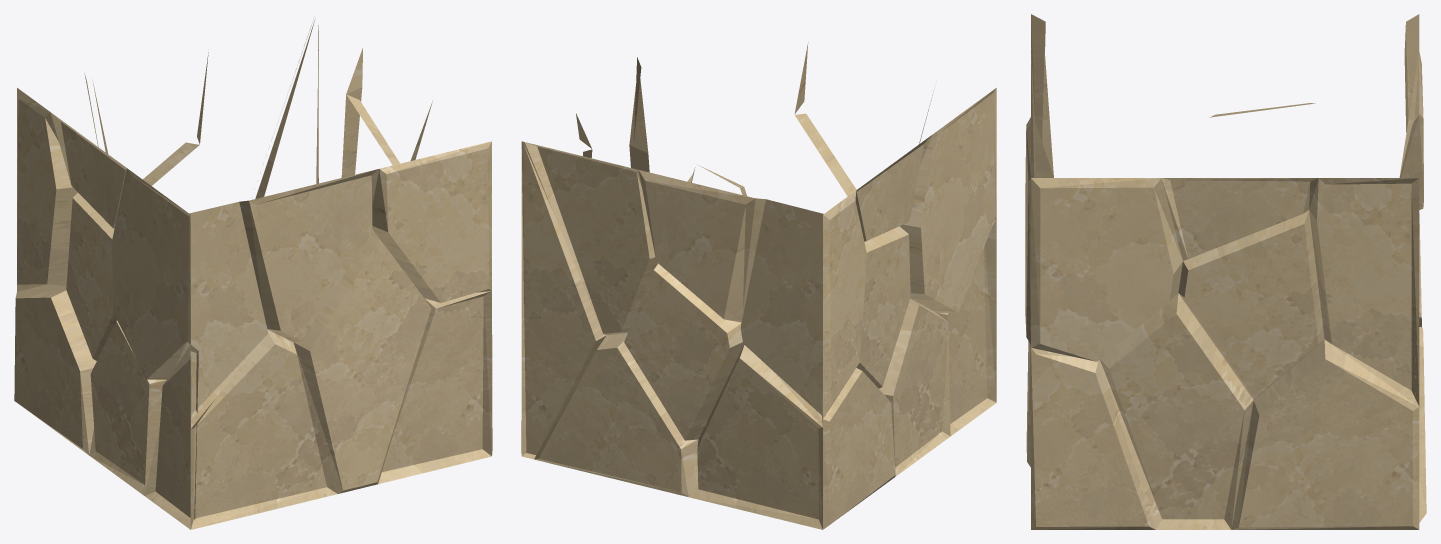
File: ground_rock_04.gltf
The picture shows the model from 3 angles, left to right: view 1: azimuth 30°, elevation 25°; view 2: azimuth 150°, elevation 25°; view 3: azimuth 270°, elevation 25°; orthographic projection. The views are drawn at different scales.
Visible parts, largest first — view 1: ground_rock_04; view 2: ground_rock_04; view 3: ground_rock_04.
Boxes of the visible parts, x1,y1,x2,y2 form: ground_rock_04: [14, 19, 492, 529]; ground_rock_04: [521, 42, 996, 529]; ground_rock_04: [1025, 14, 1426, 529].
Bounding box in the file's own units: 1.04 × 1 × 1.03.
Materials: 28 (28 with a texture image).
